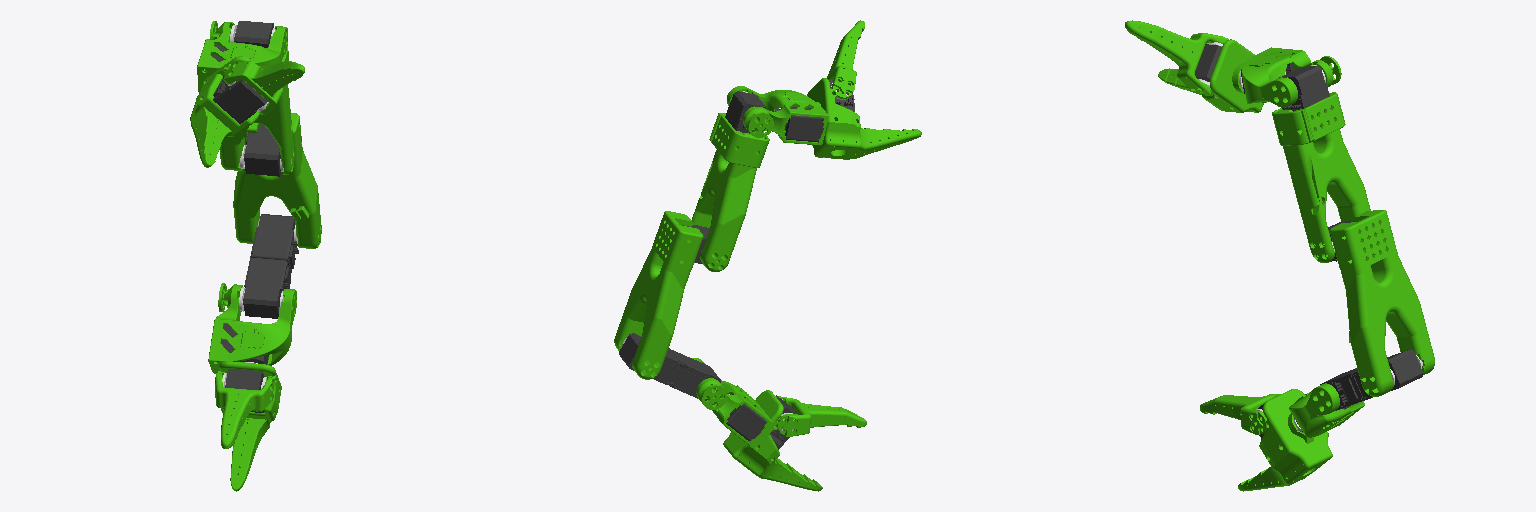
--- Facts derived from the render (not from the file) ---
Views: 3 orthographic renders of the robot side by side, from view 1: azimuth 30°, elevation 25°; view 2: azimuth 150°, elevation 25°; view 3: azimuth 270°, elevation 25°.
Model dual2 with 9 links and 8 joints (8 revolute), rooted at st3215_servo_phosphobot, posed all joints at 0.
Visible links, largest first — view 1: so_arm100_08k_116_square, wrist_roll_pitch_08i_2, st3215_servo_phosphobot, wrist_roll_08c, passive_horn, so_arm100_08k_mirror, wrist_roll_pitch_08i, moving_jaw_08d_2, moving_jaw_08d; view 2: so_arm100_08k_116_square, so_arm100_08k_mirror, wrist_roll_08c, wrist_roll_pitch_08i, passive_horn, wrist_roll_pitch_08i_2, st3215_servo_phosphobot, moving_jaw_08d_2, moving_jaw_08d; view 3: so_arm100_08k_116_square, so_arm100_08k_mirror, passive_horn, wrist_roll_pitch_08i, wrist_roll_08c, moving_jaw_08d, wrist_roll_pitch_08i_2, st3215_servo_phosphobot, moving_jaw_08d_2.
Boxes of the visible links, bbox=[...] form: so_arm100_08k_116_square: bbox=[233, 113, 321, 248]; wrist_roll_pitch_08i_2: bbox=[208, 283, 296, 373]; st3215_servo_phosphobot: bbox=[239, 214, 298, 318]; wrist_roll_08c: bbox=[190, 56, 268, 167]; passive_horn: bbox=[219, 361, 281, 491]; so_arm100_08k_mirror: bbox=[220, 21, 294, 174]; wrist_roll_pitch_08i: bbox=[197, 21, 287, 93]; moving_jaw_08d_2: bbox=[215, 373, 273, 448]; moving_jaw_08d: bbox=[223, 61, 304, 115]; so_arm100_08k_116_square: bbox=[614, 211, 709, 379]; so_arm100_08k_mirror: bbox=[692, 91, 769, 271]; wrist_roll_08c: bbox=[807, 78, 921, 159]; wrist_roll_pitch_08i: bbox=[727, 86, 828, 145]; passive_horn: bbox=[723, 390, 822, 491]; wrist_roll_pitch_08i_2: bbox=[692, 358, 772, 446]; st3215_servo_phosphobot: bbox=[619, 333, 720, 398]; moving_jaw_08d_2: bbox=[778, 396, 866, 436]; moving_jaw_08d: bbox=[827, 20, 864, 98]; so_arm100_08k_116_square: bbox=[1328, 210, 1434, 396]; so_arm100_08k_mirror: bbox=[1272, 65, 1370, 262]; passive_horn: bbox=[1238, 389, 1332, 491]; wrist_roll_pitch_08i: bbox=[1238, 47, 1341, 107]; wrist_roll_08c: bbox=[1158, 39, 1263, 112]; moving_jaw_08d: bbox=[1125, 20, 1228, 95]; wrist_roll_pitch_08i_2: bbox=[1289, 368, 1364, 437]; st3215_servo_phosphobot: bbox=[1320, 349, 1422, 410]; moving_jaw_08d_2: bbox=[1200, 394, 1280, 434].
Bounding box of the posed robot: 0.2148 × 0.2523 × 0.4258 m (x, y, z).
41 mesh visuals loaded from 10 distinct referenced files (10 binary STL).

The robot description file, URDF, robot "dual2":
<?xml version="1.0" ?>
<!-- Generated using onshape-to-robot -->
<!-- Onshape document_id: a89a7f8c6687260d76fc2734 -->
<robot name="dual2">
  <!-- Link st3215_servo_phosphobot -->
  <link name="st3215_servo_phosphobot">
    <inertial>
      <origin xyz="-0.0402741 -0.090664 0.100812" rpy="0 0 0"/>
      <mass value="0.0817231"/>
      <inertia ixx="4.64491e-05" ixy="-1.73489e-05" ixz="-1.58371e-05" iyy="4.2119e-05" iyz="-1.79363e-05" izz="5.20065e-05"/>
    </inertial>
    <!-- Part socket_button_head_screw_m3x0_5_x_5__3d0b7d67b03d7dab03d7e71c432bce35 -->
    <visual>
      <origin xyz="-0.0751771 -0.100049 0.0826237" rpy="1.5708 0.543003 -2.29412"/>
      <geometry>
        <mesh filename="package://assets/socket_button_head_screw_m3x0_5_x_5__3d0b7d67b03d7dab03d7e71c432bce35.stl"/>
      </geometry>
      <material name="socket_button_head_screw_m3x0_5_x_5__3d0b7d67b03d7dab03d7e71c432bce35_material">
        <color rgba="0.603922 0.647059 0.686275 1"/>
      </material>
    </visual>
    <collision>
      <origin xyz="-0.0751771 -0.100049 0.0826237" rpy="1.5708 0.543003 -2.29412"/>
      <geometry>
        <mesh filename="package://assets/socket_button_head_screw_m3x0_5_x_5__3d0b7d67b03d7dab03d7e71c432bce35.stl"/>
      </geometry>
    </collision>
    <!-- Part sts3215_servo -->
    <visual>
      <origin xyz="-0.0528391 -0.105496 0.0890825" rpy="3.04316e-16 0.543003 -2.29412"/>
      <geometry>
        <mesh filename="package://assets/sts3215_servo.stl"/>
      </geometry>
      <material name="sts3215_servo_material">
        <color rgba="0.301961 0.301961 0.301961 1"/>
      </material>
    </visual>
    <collision>
      <origin xyz="-0.0528391 -0.105496 0.0890825" rpy="3.04316e-16 0.543003 -2.29412"/>
      <geometry>
        <mesh filename="package://assets/sts3215_servo.stl"/>
      </geometry>
    </collision>
    <!-- Part driven_horn -->
    <visual>
      <origin xyz="-0.0528391 -0.105496 0.0890825" rpy="-1.80994e-16 0.543003 -2.29412"/>
      <geometry>
        <mesh filename="package://assets/driven_horn.stl"/>
      </geometry>
      <material name="driven_horn_material">
        <color rgba="0.917647 0.917647 0.917647 1"/>
      </material>
    </visual>
    <collision>
      <origin xyz="-0.0528391 -0.105496 0.0890825" rpy="-1.80994e-16 0.543003 -2.29412"/>
      <geometry>
        <mesh filename="package://assets/driven_horn.stl"/>
      </geometry>
    </collision>
    <!-- Part passive_horn -->
    <visual>
      <origin xyz="-0.0466544 -0.125234 0.0826237" rpy="1.92821e-15 0.543003 -2.29412"/>
      <geometry>
        <mesh filename="package://assets/passive_horn.stl"/>
      </geometry>
      <material name="passive_horn_material">
        <color rgba="0.917647 0.917647 0.917647 1"/>
      </material>
    </visual>
    <collision>
      <origin xyz="-0.0466544 -0.125234 0.0826237" rpy="1.92821e-15 0.543003 -2.29412"/>
      <geometry>
        <mesh filename="package://assets/passive_horn.stl"/>
      </geometry>
    </collision>
    <!-- Part passive_horn_2 -->
    <visual>
      <origin xyz="-0.00676049 -0.0800519 0.119" rpy="3.14159 -0.543003 0.847474"/>
      <geometry>
        <mesh filename="package://assets/passive_horn.stl"/>
      </geometry>
      <material name="passive_horn_2_material">
        <color rgba="0.917647 0.917647 0.917647 1"/>
      </material>
    </visual>
    <collision>
      <origin xyz="-0.00676049 -0.0800519 0.119" rpy="3.14159 -0.543003 0.847474"/>
      <geometry>
        <mesh filename="package://assets/passive_horn.stl"/>
      </geometry>
    </collision>
    <!-- Part socket_button_head_screw_m3x0_5_x_5__3d0b7d67b03d7dab03d7e71c432bce35_2 -->
    <visual>
      <origin xyz="-0.0352832 -0.0548674 0.119" rpy="-1.5708 -0.543003 0.847474"/>
      <geometry>
        <mesh filename="package://assets/socket_button_head_screw_m3x0_5_x_5__3d0b7d67b03d7dab03d7e71c432bce35.stl"/>
      </geometry>
      <material name="socket_button_head_screw_m3x0_5_x_5__3d0b7d67b03d7dab03d7e71c432bce35_2_material">
        <color rgba="0.603922 0.647059 0.686275 1"/>
      </material>
    </visual>
    <collision>
      <origin xyz="-0.0352832 -0.0548674 0.119" rpy="-1.5708 -0.543003 0.847474"/>
      <geometry>
        <mesh filename="package://assets/socket_button_head_screw_m3x0_5_x_5__3d0b7d67b03d7dab03d7e71c432bce35.stl"/>
      </geometry>
    </collision>
    <!-- Part sts3215_servo_2 -->
    <visual>
      <origin xyz="-0.027112 -0.076359 0.112541" rpy="3.14159 -0.543003 0.847474"/>
      <geometry>
        <mesh filename="package://assets/sts3215_servo.stl"/>
      </geometry>
      <material name="sts3215_servo_2_material">
        <color rgba="0.301961 0.301961 0.301961 1"/>
      </material>
    </visual>
    <collision>
      <origin xyz="-0.027112 -0.076359 0.112541" rpy="3.14159 -0.543003 0.847474"/>
      <geometry>
        <mesh filename="package://assets/sts3215_servo.stl"/>
      </geometry>
    </collision>
    <!-- Part driven_horn_2 -->
    <visual>
      <origin xyz="-0.027112 -0.076359 0.112541" rpy="3.14159 -0.543003 0.847474"/>
      <geometry>
        <mesh filename="package://assets/driven_horn.stl"/>
      </geometry>
      <material name="driven_horn_2_material">
        <color rgba="0.917647 0.917647 0.917647 1"/>
      </material>
    </visual>
    <collision>
      <origin xyz="-0.027112 -0.076359 0.112541" rpy="3.14159 -0.543003 0.847474"/>
      <geometry>
        <mesh filename="package://assets/driven_horn.stl"/>
      </geometry>
    </collision>
  </link>
  <!-- Link so_arm100_08k_116_square -->
  <link name="so_arm100_08k_116_square">
    <inertial>
      <origin xyz="-0.0692389 -0.00301229 0.0197206" rpy="0 0 0"/>
      <mass value="0.198604"/>
      <inertia ixx="9.59222e-05" ixy="-2.64197e-05" ixz="-1.11797e-06" iyy="0.000363052" iyz="-4.08932e-08" izz="0.000313279"/>
    </inertial>
    <!-- Part so_arm100_08k_116_square -->
    <visual>
      <origin xyz="-0.065085 0.012 0.0197" rpy="1.5708 -0 -5.55112e-17"/>
      <geometry>
        <mesh filename="package://assets/so_arm100_08k_116_square.stl"/>
      </geometry>
      <material name="so_arm100_08k_116_square_material">
        <color rgba="0.329412 0.788235 0.113725 1"/>
      </material>
    </visual>
    <collision>
      <origin xyz="-0.065085 0.012 0.0197" rpy="1.5708 -0 -5.55112e-17"/>
      <geometry>
        <mesh filename="package://assets/so_arm100_08k_116_square.stl"/>
      </geometry>
    </collision>
    <!-- Part passive_horn_3 -->
    <visual>
      <origin xyz="-0.11257 -0.028 0.0379" rpy="1.5708 -2.22045e-16 -1.5708"/>
      <geometry>
        <mesh filename="package://assets/passive_horn.stl"/>
      </geometry>
      <material name="passive_horn_3_material">
        <color rgba="0.917647 0.917647 0.917647 1"/>
      </material>
    </visual>
    <collision>
      <origin xyz="-0.11257 -0.028 0.0379" rpy="1.5708 -2.22045e-16 -1.5708"/>
      <geometry>
        <mesh filename="package://assets/passive_horn.stl"/>
      </geometry>
    </collision>
    <!-- Part socket_button_head_screw_m3x0_5_x_5__3d0b7d67b03d7dab03d7e71c432bce35_3 -->
    <visual>
      <origin xyz="-0.11257 -0.028 -0.00015" rpy="-3.14159 -1.04222e-12 -1.5708"/>
      <geometry>
        <mesh filename="package://assets/socket_button_head_screw_m3x0_5_x_5__3d0b7d67b03d7dab03d7e71c432bce35.stl"/>
      </geometry>
      <material name="socket_button_head_screw_m3x0_5_x_5__3d0b7d67b03d7dab03d7e71c432bce35_3_material">
        <color rgba="0.603922 0.647059 0.686275 1"/>
      </material>
    </visual>
    <collision>
      <origin xyz="-0.11257 -0.028 -0.00015" rpy="-3.14159 -1.04222e-12 -1.5708"/>
      <geometry>
        <mesh filename="package://assets/socket_button_head_screw_m3x0_5_x_5__3d0b7d67b03d7dab03d7e71c432bce35.stl"/>
      </geometry>
    </collision>
    <!-- Part sts3215_servo_3 -->
    <visual>
      <origin xyz="-0.11257 -0.0155 0.0202" rpy="1.5708 -2.22045e-16 -1.5708"/>
      <geometry>
        <mesh filename="package://assets/sts3215_servo.stl"/>
      </geometry>
      <material name="sts3215_servo_3_material">
        <color rgba="0.301961 0.301961 0.301961 1"/>
      </material>
    </visual>
    <collision>
      <origin xyz="-0.11257 -0.0155 0.0202" rpy="1.5708 -2.22045e-16 -1.5708"/>
      <geometry>
        <mesh filename="package://assets/sts3215_servo.stl"/>
      </geometry>
    </collision>
    <!-- Part driven_horn_3 -->
    <visual>
      <origin xyz="-0.11257 -0.0155 0.0202" rpy="1.5708 -2.22045e-16 -1.5708"/>
      <geometry>
        <mesh filename="package://assets/driven_horn.stl"/>
      </geometry>
      <material name="driven_horn_3_material">
        <color rgba="0.917647 0.917647 0.917647 1"/>
      </material>
    </visual>
    <collision>
      <origin xyz="-0.11257 -0.0155 0.0202" rpy="1.5708 -2.22045e-16 -1.5708"/>
      <geometry>
        <mesh filename="package://assets/driven_horn.stl"/>
      </geometry>
    </collision>
  </link>
  <!-- Link so_arm100_08k_mirror -->
  <link name="so_arm100_08k_mirror">
    <inertial>
      <origin xyz="-0.0758873 0.0012846 0.0147496" rpy="0 0 0"/>
      <mass value="0.18055"/>
      <inertia ixx="6.5671e-05" ixy="1.11346e-05" ixz="2.69977e-05" iyy="0.000326779" iyz="-8.88954e-07" izz="0.000284678"/>
    </inertial>
    <!-- Part so_arm100_08k_mirror -->
    <visual>
      <origin xyz="-0.0648499 -0.032 0.0182" rpy="1.5708 -5.55112e-17 5.55112e-17"/>
      <geometry>
        <mesh filename="package://assets/so_arm100_08k_mirror.stl"/>
      </geometry>
      <material name="so_arm100_08k_mirror_material">
        <color rgba="0.329412 0.788235 0.113725 1"/>
      </material>
    </visual>
    <collision>
      <origin xyz="-0.0648499 -0.032 0.0182" rpy="1.5708 -5.55112e-17 5.55112e-17"/>
      <geometry>
        <mesh filename="package://assets/so_arm100_08k_mirror.stl"/>
      </geometry>
    </collision>
    <!-- Part so_arm100_08k_mirror_2 -->
    <visual>
      <origin xyz="-0.0648499 -0.032 0.0184" rpy="1.5708 5.55112e-16 2.498e-16"/>
      <geometry>
        <mesh filename="package://assets/so_arm100_08k_mirror__2.stl"/>
      </geometry>
      <material name="so_arm100_08k_mirror_2_material">
        <color rgba="0.329412 0.788235 0.113725 1"/>
      </material>
    </visual>
    <collision>
      <origin xyz="-0.0648499 -0.032 0.0184" rpy="1.5708 5.55112e-16 2.498e-16"/>
      <geometry>
        <mesh filename="package://assets/so_arm100_08k_mirror__2.stl"/>
      </geometry>
    </collision>
    <!-- Part passive_horn_4 -->
    <visual>
      <origin xyz="-0.1349 0.0052 0.0363" rpy="1.5708 -7.21645e-16 -3.14159"/>
      <geometry>
        <mesh filename="package://assets/passive_horn.stl"/>
      </geometry>
      <material name="passive_horn_4_material">
        <color rgba="0.917647 0.917647 0.917647 1"/>
      </material>
    </visual>
    <collision>
      <origin xyz="-0.1349 0.0052 0.0363" rpy="1.5708 -7.21645e-16 -3.14159"/>
      <geometry>
        <mesh filename="package://assets/passive_horn.stl"/>
      </geometry>
    </collision>
    <!-- Part socket_button_head_screw_m3x0_5_x_5__3d0b7d67b03d7dab03d7e71c432bce35_4 -->
    <visual>
      <origin xyz="-0.1349 0.0052 -0.00175" rpy="-3.14159 -8.26172e-13 3.14159"/>
      <geometry>
        <mesh filename="package://assets/socket_button_head_screw_m3x0_5_x_5__3d0b7d67b03d7dab03d7e71c432bce35.stl"/>
      </geometry>
      <material name="socket_button_head_screw_m3x0_5_x_5__3d0b7d67b03d7dab03d7e71c432bce35_4_material">
        <color rgba="0.603922 0.647059 0.686275 1"/>
      </material>
    </visual>
    <collision>
      <origin xyz="-0.1349 0.0052 -0.00175" rpy="-3.14159 -8.26172e-13 3.14159"/>
      <geometry>
        <mesh filename="package://assets/socket_button_head_screw_m3x0_5_x_5__3d0b7d67b03d7dab03d7e71c432bce35.stl"/>
      </geometry>
    </collision>
    <!-- Part sts3215_servo_4 -->
    <visual>
      <origin xyz="-0.1224 0.0052 0.0186" rpy="1.5708 -7.21645e-16 -3.14159"/>
      <geometry>
        <mesh filename="package://assets/sts3215_servo.stl"/>
      </geometry>
      <material name="sts3215_servo_4_material">
        <color rgba="0.301961 0.301961 0.301961 1"/>
      </material>
    </visual>
    <collision>
      <origin xyz="-0.1224 0.0052 0.0186" rpy="1.5708 -7.21645e-16 -3.14159"/>
      <geometry>
        <mesh filename="package://assets/sts3215_servo.stl"/>
      </geometry>
    </collision>
    <!-- Part driven_horn_4 -->
    <visual>
      <origin xyz="-0.1224 0.0052 0.0186" rpy="1.5708 -7.21645e-16 -3.14159"/>
      <geometry>
        <mesh filename="package://assets/driven_horn.stl"/>
      </geometry>
      <material name="driven_horn_4_material">
        <color rgba="0.917647 0.917647 0.917647 1"/>
      </material>
    </visual>
    <collision>
      <origin xyz="-0.1224 0.0052 0.0186" rpy="1.5708 -7.21645e-16 -3.14159"/>
      <geometry>
        <mesh filename="package://assets/driven_horn.stl"/>
      </geometry>
    </collision>
  </link>
  <!-- Link wrist_roll_pitch_08i -->
  <link name="wrist_roll_pitch_08i">
    <inertial>
      <origin xyz="0.0348768 2.4895e-05 0.0103283" rpy="0 0 0"/>
      <mass value="0.0789518"/>
      <inertia ixx="3.03765e-05" ixy="6.79159e-08" ixz="3.67321e-06" iyy="4.97309e-05" iyz="-1.60152e-08" izz="2.98528e-05"/>
    </inertial>
    <!-- Part wrist_roll_pitch_08i -->
    <visual>
      <origin xyz="0.028 -5.55112e-17 0.0181" rpy="1.5708 1.5708 0"/>
      <geometry>
        <mesh filename="package://assets/wrist_roll_pitch_08i.stl"/>
      </geometry>
      <material name="wrist_roll_pitch_08i_material">
        <color rgba="0.329412 0.788235 0.113725 1"/>
      </material>
    </visual>
    <collision>
      <origin xyz="0.028 -5.55112e-17 0.0181" rpy="1.5708 1.5708 0"/>
      <geometry>
        <mesh filename="package://assets/wrist_roll_pitch_08i.stl"/>
      </geometry>
    </collision>
    <!-- Part passive_horn_5 -->
    <visual>
      <origin xyz="0.0247 1.08247e-14 0.0181" rpy="1.5708 -1.5708 0"/>
      <geometry>
        <mesh filename="package://assets/passive_horn.stl"/>
      </geometry>
      <material name="passive_horn_5_material">
        <color rgba="0.917647 0.917647 0.917647 1"/>
      </material>
    </visual>
    <collision>
      <origin xyz="0.0247 1.08247e-14 0.0181" rpy="1.5708 -1.5708 0"/>
      <geometry>
        <mesh filename="package://assets/passive_horn.stl"/>
      </geometry>
    </collision>
    <!-- Part socket_button_head_screw_m3x0_5_x_5__3d0b7d67b03d7dab03d7e71c432bce35_5 -->
    <visual>
      <origin xyz="0.06275 -9.27036e-15 0.0181" rpy="-3.14159 -1.5708 0"/>
      <geometry>
        <mesh filename="package://assets/socket_button_head_screw_m3x0_5_x_5__3d0b7d67b03d7dab03d7e71c432bce35.stl"/>
      </geometry>
      <material name="socket_button_head_screw_m3x0_5_x_5__3d0b7d67b03d7dab03d7e71c432bce35_5_material">
        <color rgba="0.603922 0.647059 0.686275 1"/>
      </material>
    </visual>
    <collision>
      <origin xyz="0.06275 -9.27036e-15 0.0181" rpy="-3.14159 -1.5708 0"/>
      <geometry>
        <mesh filename="package://assets/socket_button_head_screw_m3x0_5_x_5__3d0b7d67b03d7dab03d7e71c432bce35.stl"/>
      </geometry>
    </collision>
    <!-- Part sts3215_servo_5 -->
    <visual>
      <origin xyz="0.0424 -5.55112e-17 0.0056" rpy="1.5708 -1.5708 0"/>
      <geometry>
        <mesh filename="package://assets/sts3215_servo.stl"/>
      </geometry>
      <material name="sts3215_servo_5_material">
        <color rgba="0.301961 0.301961 0.301961 1"/>
      </material>
    </visual>
    <collision>
      <origin xyz="0.0424 -5.55112e-17 0.0056" rpy="1.5708 -1.5708 0"/>
      <geometry>
        <mesh filename="package://assets/sts3215_servo.stl"/>
      </geometry>
    </collision>
    <!-- Part driven_horn_5 -->
    <visual>
      <origin xyz="0.0424 -5.55112e-17 0.0056" rpy="1.5708 -1.5708 0"/>
      <geometry>
        <mesh filename="package://assets/driven_horn.stl"/>
      </geometry>
      <material name="driven_horn_5_material">
        <color rgba="0.917647 0.917647 0.917647 1"/>
      </material>
    </visual>
    <collision>
      <origin xyz="0.0424 -5.55112e-17 0.0056" rpy="1.5708 -1.5708 0"/>
      <geometry>
        <mesh filename="package://assets/driven_horn.stl"/>
      </geometry>
    </collision>
  </link>
  <!-- Link wrist_roll_08c -->
  <link name="wrist_roll_08c">
    <inertial>
      <origin xyz="-0.00588121 0.000485423 -0.0272358" rpy="0 0 0"/>
      <mass value="0.112045"/>
      <inertia ixx="5.4951e-05" ixy="-6.89891e-07" ixz="-1.20621e-05" iyy="7.47992e-05" iyz="-1.33251e-07" izz="4.96872e-05"/>
    </inertial>
    <!-- Part wrist_roll_08c -->
    <visual>
      <origin xyz="0 0 2.42861e-17" rpy="1.5708 -5.55112e-17 -2.77556e-17"/>
      <geometry>
        <mesh filename="package://assets/wrist_roll_08c.stl"/>
      </geometry>
      <material name="wrist_roll_08c_material">
        <color rgba="0.329412 0.788235 0.113725 1"/>
      </material>
    </visual>
    <collision>
      <origin xyz="0 0 2.42861e-17" rpy="1.5708 -5.55112e-17 -2.77556e-17"/>
      <geometry>
        <mesh filename="package://assets/wrist_roll_08c.stl"/>
      </geometry>
    </collision>
    <!-- Part passive_horn_6 -->
    <visual>
      <origin xyz="0.0198 -0.0178 -0.023625" rpy="3.14159 5.55112e-17 6.38378e-16"/>
      <geometry>
        <mesh filename="package://assets/passive_horn.stl"/>
      </geometry>
      <material name="passive_horn_6_material">
        <color rgba="0.917647 0.917647 0.917647 1"/>
      </material>
    </visual>
    <collision>
      <origin xyz="0.0198 -0.0178 -0.023625" rpy="3.14159 5.55112e-17 6.38378e-16"/>
      <geometry>
        <mesh filename="package://assets/passive_horn.stl"/>
      </geometry>
    </collision>
    <!-- Part socket_button_head_screw_m3x0_5_x_5__3d0b7d67b03d7dab03d7e71c432bce35_6 -->
    <visual>
      <origin xyz="0.0198 0.02025 -0.023625" rpy="-1.5708 -6.92335e-13 -1.66561e-13"/>
      <geometry>
        <mesh filename="package://assets/socket_button_head_screw_m3x0_5_x_5__3d0b7d67b03d7dab03d7e71c432bce35.stl"/>
      </geometry>
      <material name="socket_button_head_screw_m3x0_5_x_5__3d0b7d67b03d7dab03d7e71c432bce35_6_material">
        <color rgba="0.603922 0.647059 0.686275 1"/>
      </material>
    </visual>
    <collision>
      <origin xyz="0.0198 0.02025 -0.023625" rpy="-1.5708 -6.92335e-13 -1.66561e-13"/>
      <geometry>
        <mesh filename="package://assets/socket_button_head_screw_m3x0_5_x_5__3d0b7d67b03d7dab03d7e71c432bce35.stl"/>
      </geometry>
    </collision>
    <!-- Part sts3215_servo_6 -->
    <visual>
      <origin xyz="0.0073 -0.0001 -0.023625" rpy="3.14159 5.55112e-17 6.38378e-16"/>
      <geometry>
        <mesh filename="package://assets/sts3215_servo.stl"/>
      </geometry>
      <material name="sts3215_servo_6_material">
        <color rgba="0.301961 0.301961 0.301961 1"/>
      </material>
    </visual>
    <collision>
      <origin xyz="0.0073 -0.0001 -0.023625" rpy="3.14159 5.55112e-17 6.38378e-16"/>
      <geometry>
        <mesh filename="package://assets/sts3215_servo.stl"/>
      </geometry>
    </collision>
    <!-- Part driven_horn_6 -->
    <visual>
      <origin xyz="0.0073 -0.0001 -0.023625" rpy="3.14159 5.55112e-17 6.38378e-16"/>
      <geometry>
        <mesh filename="package://assets/driven_horn.stl"/>
      </geometry>
      <material name="driven_horn_6_material">
        <color rgba="0.917647 0.917647 0.917647 1"/>
      </material>
    </visual>
    <collision>
      <origin xyz="0.0073 -0.0001 -0.023625" rpy="3.14159 5.55112e-17 6.38378e-16"/>
      <geometry>
        <mesh filename="package://assets/driven_horn.stl"/>
      </geometry>
    </collision>
  </link>
  <!-- Link moving_jaw_08d -->
  <link name="moving_jaw_08d">
    <inertial>
      <origin xyz="-0.00739035 -0.0295297 0.0192843" rpy="0 0 0"/>
      <mass value="0.0252688"/>
      <inertia ixx="1.31967e-05" ixy="-2.4988e-06" ixz="-5.87979e-08" iyy="4.39028e-06" iyz="-2.33616e-07" izz="1.12075e-05"/>
    </inertial>
    <!-- Part moving_jaw_08d -->
    <visual>
      <origin xyz="-1.9082e-17 -2.77556e-17 0.0189" rpy="-1.5708 -2.77556e-17 -0.191986"/>
      <geometry>
        <mesh filename="package://assets/moving_jaw_08d.stl"/>
      </geometry>
      <material name="moving_jaw_08d_material">
        <color rgba="0.329412 0.788235 0.113725 1"/>
      </material>
    </visual>
    <collision>
      <origin xyz="-1.9082e-17 -2.77556e-17 0.0189" rpy="-1.5708 -2.77556e-17 -0.191986"/>
      <geometry>
        <mesh filename="package://assets/moving_jaw_08d.stl"/>
      </geometry>
    </collision>
  </link>
  <!-- Joint from wrist_roll_08c to moving_jaw_08d -->
  <joint name="Revolute 6" type="revolute">
    <origin xyz="0.0198 0.0186 -0.023625" rpy="1.5708 -1.46644 -3.27463e-13"/>
    <parent link="wrist_roll_08c"/>
    <child link="moving_jaw_08d"/>
    <axis xyz="0 0 1"/>
    <limit effort="10" velocity="10" lower="-1.46644" upper="0.104359"/>
  </joint>
  <!-- Joint from wrist_roll_pitch_08i to wrist_roll_08c -->
  <joint name="Revolute 5" type="revolute">
    <origin xyz="0.0611 1.11022e-16 0.0181" rpy="1.5708 -0.805218 -1.5708"/>
    <parent link="wrist_roll_pitch_08i"/>
    <child link="wrist_roll_08c"/>
    <axis xyz="0 0 1"/>
    <limit effort="10" velocity="10" lower="-0.805218" upper="2.33638"/>
  </joint>
  <!-- Joint from so_arm100_08k_mirror to wrist_roll_pitch_08i -->
  <joint name="Revolute 4" type="revolute">
    <origin xyz="-0.1349 0.0052 -0.0001" rpy="2.98372e-15 1.38778e-15 -1.6872"/>
    <parent link="so_arm100_08k_mirror"/>
    <child link="wrist_roll_pitch_08i"/>
    <axis xyz="0 0 1"/>
    <limit effort="10" velocity="10" lower="-3.02519" upper="0.116402"/>
  </joint>
  <!-- Joint from so_arm100_08k_116_square to so_arm100_08k_mirror -->
  <joint name="Revolute 3" type="revolute">
    <origin xyz="-0.11257 -0.028 0.0015" rpy="4.27436e-15 3.33067e-16 6.02402e-09"/>
    <parent link="so_arm100_08k_116_square"/>
    <child link="so_arm100_08k_mirror"/>
    <axis xyz="0 0 1"/>
    <limit effort="10" velocity="10" lower="-6.02402e-09" upper="3.14159"/>
  </joint>
  <!-- Joint from st3215_servo_phosphobot to so_arm100_08k_116_square -->
  <joint name="Revolute 2" type="revolute">
    <origin xyz="-0.0340463 -0.0559595 0.119" rpy="1.5708 1.22788 0.847474"/>
    <parent link="st3215_servo_phosphobot"/>
    <child link="so_arm100_08k_116_square"/>
    <axis xyz="0 0 1"/>
    <limit effort="10" velocity="10" lower="-2.94151" upper="0.200086"/>
  </joint>
  <!-- Link wrist_roll_pitch_08i_2 -->
  <link name="wrist_roll_pitch_08i_2">
    <inertial>
      <origin xyz="0.0348768 2.4895e-05 0.0103283" rpy="0 0 0"/>
      <mass value="0.0789518"/>
      <inertia ixx="3.03765e-05" ixy="6.79159e-08" ixz="3.67321e-06" iyy="4.97309e-05" iyz="-1.60152e-08" izz="2.98528e-05"/>
    </inertial>
    <!-- Part passive_horn_7 -->
    <visual>
      <origin xyz="0.0247 -6.93889e-17 0.0181" rpy="1.5708 -1.5708 0"/>
      <geometry>
        <mesh filename="package://assets/passive_horn.stl"/>
      </geometry>
      <material name="passive_horn_7_material">
        <color rgba="0.917647 0.917647 0.917647 1"/>
      </material>
    </visual>
    <collision>
      <origin xyz="0.0247 -6.93889e-17 0.0181" rpy="1.5708 -1.5708 0"/>
      <geometry>
        <mesh filename="package://assets/passive_horn.stl"/>
      </geometry>
    </collision>
    <!-- Part socket_button_head_screw_m3x0_5_x_5__3d0b7d67b03d7dab03d7e71c432bce35_7 -->
    <visual>
      <origin xyz="0.06275 -6.93889e-17 0.0181" rpy="-3.14159 -1.5708 0"/>
      <geometry>
        <mesh filename="package://assets/socket_button_head_screw_m3x0_5_x_5__3d0b7d67b03d7dab03d7e71c432bce35.stl"/>
      </geometry>
      <material name="socket_button_head_screw_m3x0_5_x_5__3d0b7d67b03d7dab03d7e71c432bce35_7_material">
        <color rgba="0.603922 0.647059 0.686275 1"/>
      </material>
    </visual>
    <collision>
      <origin xyz="0.06275 -6.93889e-17 0.0181" rpy="-3.14159 -1.5708 0"/>
      <geometry>
        <mesh filename="package://assets/socket_button_head_screw_m3x0_5_x_5__3d0b7d67b03d7dab03d7e71c432bce35.stl"/>
      </geometry>
    </collision>
    <!-- Part driven_horn_7 -->
    <visual>
      <origin xyz="0.0424 -9.71445e-17 0.0056" rpy="1.5708 -1.5708 0"/>
      <geometry>
        <mesh filename="package://assets/driven_horn.stl"/>
      </geometry>
      <material name="driven_horn_7_material">
        <color rgba="0.917647 0.917647 0.917647 1"/>
      </material>
    </visual>
    <collision>
      <origin xyz="0.0424 -9.71445e-17 0.0056" rpy="1.5708 -1.5708 0"/>
      <geometry>
        <mesh filename="package://assets/driven_horn.stl"/>
      </geometry>
    </collision>
    <!-- Part sts3215_servo_7 -->
    <visual>
      <origin xyz="0.0424 -8.32667e-17 0.0056" rpy="1.5708 -1.5708 0"/>
      <geometry>
        <mesh filename="package://assets/sts3215_servo.stl"/>
      </geometry>
      <material name="sts3215_servo_7_material">
        <color rgba="0.301961 0.301961 0.301961 1"/>
      </material>
    </visual>
    <collision>
      <origin xyz="0.0424 -8.32667e-17 0.0056" rpy="1.5708 -1.5708 0"/>
      <geometry>
        <mesh filename="package://assets/sts3215_servo.stl"/>
      </geometry>
    </collision>
    <!-- Part wrist_roll_pitch_08i_2 -->
    <visual>
      <origin xyz="0.028 0 0.0181" rpy="1.5708 1.5708 0"/>
      <geometry>
        <mesh filename="package://assets/wrist_roll_pitch_08i.stl"/>
      </geometry>
      <material name="wrist_roll_pitch_08i_2_material">
        <color rgba="0.329412 0.788235 0.113725 1"/>
      </material>
    </visual>
    <collision>
      <origin xyz="0.028 0 0.0181" rpy="1.5708 1.5708 0"/>
      <geometry>
        <mesh filename="package://assets/wrist_roll_pitch_08i.stl"/>
      </geometry>
    </collision>
  </link>
  <!-- Link passive_horn -->
  <link name="passive_horn">
    <inertial>
      <origin xyz="-0.00588121 0.000485423 -0.0272358" rpy="0 0 0"/>
      <mass value="0.112045"/>
      <inertia ixx="5.4951e-05" ixy="-6.89891e-07" ixz="-1.20621e-05" iyy="7.47992e-05" iyz="-1.33251e-07" izz="4.96872e-05"/>
    </inertial>
    <!-- Part driven_horn_8 -->
    <visual>
      <origin xyz="0.0073 -0.0001 -0.023625" rpy="3.14159 1.11022e-16 -7.32747e-15"/>
      <geometry>
        <mesh filename="package://assets/driven_horn.stl"/>
      </geometry>
      <material name="driven_horn_8_material">
        <color rgba="0.917647 0.917647 0.917647 1"/>
      </material>
    </visual>
    <collision>
      <origin xyz="0.0073 -0.0001 -0.023625" rpy="3.14159 1.11022e-16 -7.32747e-15"/>
      <geometry>
        <mesh filename="package://assets/driven_horn.stl"/>
      </geometry>
    </collision>
    <!-- Part sts3215_servo_8 -->
    <visual>
      <origin xyz="0.0073 -0.0001 -0.023625" rpy="3.14159 -0 -5.9952e-15"/>
      <geometry>
        <mesh filename="package://assets/sts3215_servo.stl"/>
      </geometry>
      <material name="sts3215_servo_8_material">
        <color rgba="0.301961 0.301961 0.301961 1"/>
      </material>
    </visual>
    <collision>
      <origin xyz="0.0073 -0.0001 -0.023625" rpy="3.14159 -0 -5.9952e-15"/>
      <geometry>
        <mesh filename="package://assets/sts3215_servo.stl"/>
      </geometry>
    </collision>
    <!-- Part wrist_roll_08c_2 -->
    <visual>
      <origin xyz="-2.77556e-17 0 5.20417e-18" rpy="1.5708 5.55112e-17 -5.55112e-17"/>
      <geometry>
        <mesh filename="package://assets/wrist_roll_08c.stl"/>
      </geometry>
      <material name="wrist_roll_08c_2_material">
        <color rgba="0.329412 0.788235 0.113725 1"/>
      </material>
    </visual>
    <collision>
      <origin xyz="-2.77556e-17 0 5.20417e-18" rpy="1.5708 5.55112e-17 -5.55112e-17"/>
      <geometry>
        <mesh filename="package://assets/wrist_roll_08c.stl"/>
      </geometry>
    </collision>
    <!-- Part socket_button_head_screw_m3x0_5_x_5__3d0b7d67b03d7dab03d7e71c432bce35_8 -->
    <visual>
      <origin xyz="0.0198 0.02025 -0.023625" rpy="-1.5708 -0 -4.10783e-15"/>
      <geometry>
        <mesh filename="package://assets/socket_button_head_screw_m3x0_5_x_5__3d0b7d67b03d7dab03d7e71c432bce35.stl"/>
      </geometry>
      <material name="socket_button_head_screw_m3x0_5_x_5__3d0b7d67b03d7dab03d7e71c432bce35_8_material">
        <color rgba="0.603922 0.647059 0.686275 1"/>
      </material>
    </visual>
    <collision>
      <origin xyz="0.0198 0.02025 -0.023625" rpy="-1.5708 -0 -4.10783e-15"/>
      <geometry>
        <mesh filename="package://assets/socket_button_head_screw_m3x0_5_x_5__3d0b7d67b03d7dab03d7e71c432bce35.stl"/>
      </geometry>
    </collision>
    <!-- Part passive_horn_8 -->
    <visual>
      <origin xyz="0.0198 -0.0178 -0.023625" rpy="3.14159 5.55112e-17 -6.43929e-15"/>
      <geometry>
        <mesh filename="package://assets/passive_horn.stl"/>
      </geometry>
      <material name="passive_horn_8_material">
        <color rgba="0.917647 0.917647 0.917647 1"/>
      </material>
    </visual>
    <collision>
      <origin xyz="0.0198 -0.0178 -0.023625" rpy="3.14159 5.55112e-17 -6.43929e-15"/>
      <geometry>
        <mesh filename="package://assets/passive_horn.stl"/>
      </geometry>
    </collision>
  </link>
  <!-- Link moving_jaw_08d_2 -->
  <link name="moving_jaw_08d_2">
    <inertial>
      <origin xyz="-0.00739035 -0.0295297 0.0192843" rpy="0 0 0"/>
      <mass value="0.0252688"/>
      <inertia ixx="1.31967e-05" ixy="-2.4988e-06" ixz="-5.87979e-08" iyy="4.39028e-06" iyz="-2.33616e-07" izz="1.12075e-05"/>
    </inertial>
    <!-- Part moving_jaw_08d_2 -->
    <visual>
      <origin xyz="0 -1.38778e-17 0.0189" rpy="-1.5708 -6.93889e-18 -0.191986"/>
      <geometry>
        <mesh filename="package://assets/moving_jaw_08d.stl"/>
      </geometry>
      <material name="moving_jaw_08d_2_material">
        <color rgba="0.329412 0.788235 0.113725 1"/>
      </material>
    </visual>
    <collision>
      <origin xyz="0 -1.38778e-17 0.0189" rpy="-1.5708 -6.93889e-18 -0.191986"/>
      <geometry>
        <mesh filename="package://assets/moving_jaw_08d.stl"/>
      </geometry>
    </collision>
  </link>
  <!-- Joint from passive_horn to moving_jaw_08d_2 -->
  <joint name="Revolute 6 (1)" type="revolute">
    <origin xyz="0.0198 0.0186 -0.023625" rpy="1.5708 -0.849688 4.67695e-15"/>
    <parent link="passive_horn"/>
    <child link="moving_jaw_08d_2"/>
    <axis xyz="0 0 1"/>
    <limit effort="10" velocity="10" lower="-0.849688" upper="0.721109"/>
  </joint>
  <!-- Joint from wrist_roll_pitch_08i_2 to passive_horn -->
  <joint name="Revolute 5 (1)" type="revolute">
    <origin xyz="0.0611 4.16334e-16 0.0181" rpy="1.5708 -3.15858e-14 -1.5708"/>
    <parent link="wrist_roll_pitch_08i_2"/>
    <child link="passive_horn"/>
    <axis xyz="0 0 1"/>
    <limit effort="10" velocity="10" lower="-1.95399e-14" upper="3.14159"/>
  </joint>
  <!-- Joint from st3215_servo_phosphobot to wrist_roll_pitch_08i_2 -->
  <joint name="Revolute 4 (1)" type="revolute">
    <origin xyz="-0.0739402 -0.101141 0.0826237" rpy="-1.5708 0.766742 -2.29412"/>
    <parent link="st3215_servo_phosphobot"/>
    <child link="wrist_roll_pitch_08i_2"/>
    <axis xyz="0 0 1"/>
    <limit effort="10" velocity="10" lower="-1.79454" upper="1.34706"/>
  </joint>
</robot>
